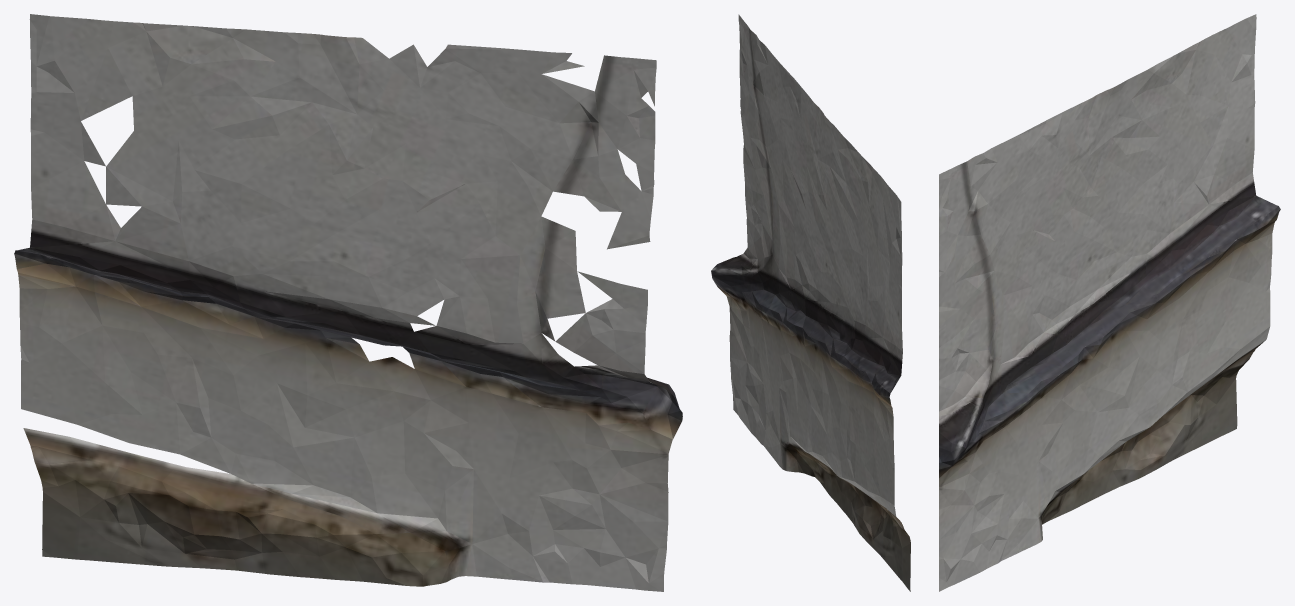
3 views of the same model, side by side, from view 1: azimuth 30°, elevation 25°; view 2: azimuth 150°, elevation 25°; view 3: azimuth 270°, elevation 25° (orthographic). The views are drawn at different scales.
Bounding box in the file's own units: 0.7373 × 0.8374 × 0.6254.
Materials: 3 (3 with a texture image).
